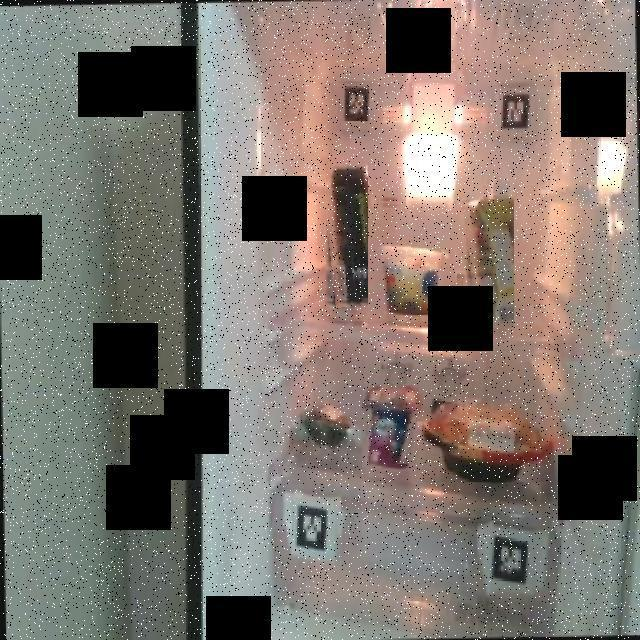bento: (422, 396, 552, 482)
can: (321, 164, 368, 308)
pudding: (381, 239, 442, 315)
rice_ball: (289, 398, 360, 458)
smoothie: (461, 176, 514, 330)
yogurt: (362, 384, 420, 468)
